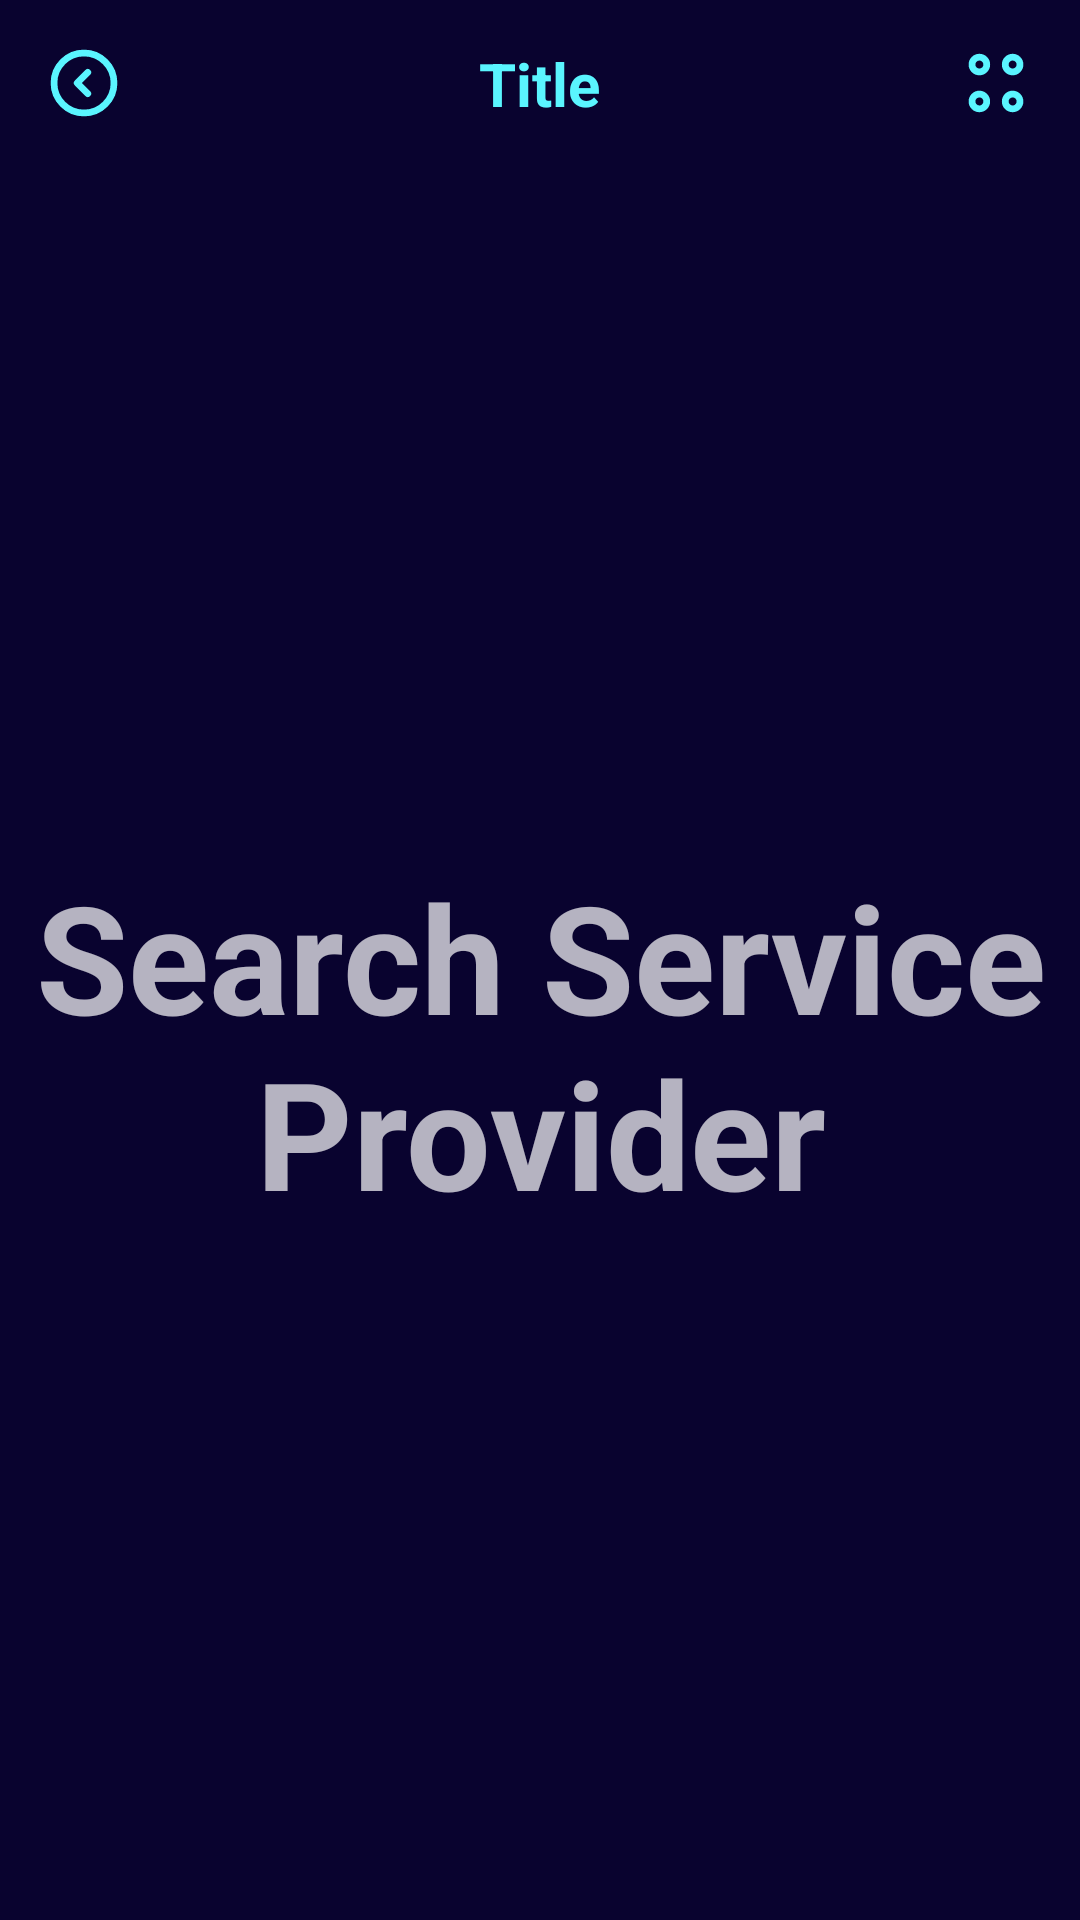

Where icons sit on this 1080 x 1920 app screen, as BBox(x1, y1, x2, y2):
arrow circle left: BBox(50, 49, 118, 117)
